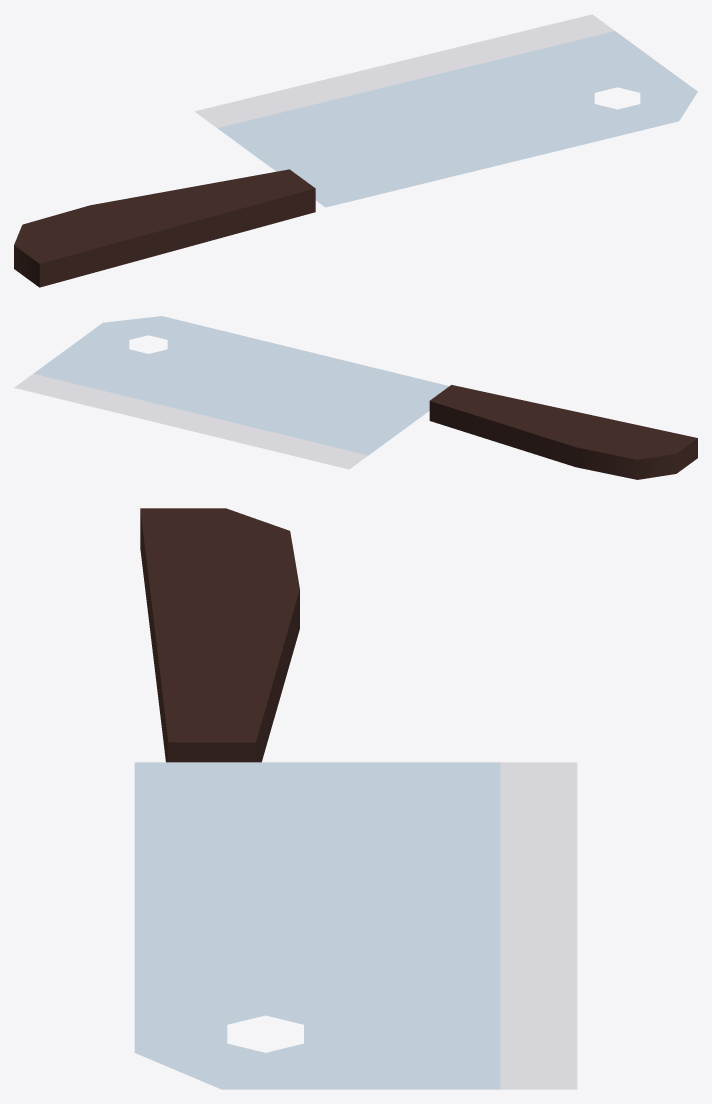
File: cookingKnifeChopping.GLB
The picture shows the model from 3 angles, top to bottom: view 1: azimuth 30°, elevation 25°; view 2: azimuth 150°, elevation 25°; view 3: azimuth 270°, elevation 25°; orthographic projection. The views are drawn at different scales.
Parts seen in each view (by area): view 1: cookingKnifeChopping; view 2: cookingKnifeChopping; view 3: cookingKnifeChopping.
Part boxes in pixels (x1,y1,x2,y2): cookingKnifeChopping: (14,14,697,287); cookingKnifeChopping: (14,316,697,479); cookingKnifeChopping: (134,508,577,1089).
Bounding box in the file's own units: 0.6 × 0.02 × 0.2.
